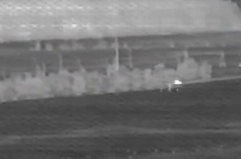Target: (174, 80, 181, 83)
